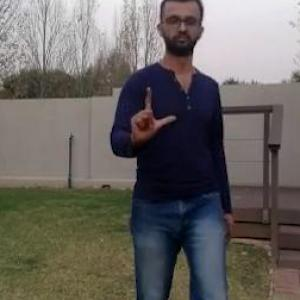land_hand: (124, 80, 181, 150)
